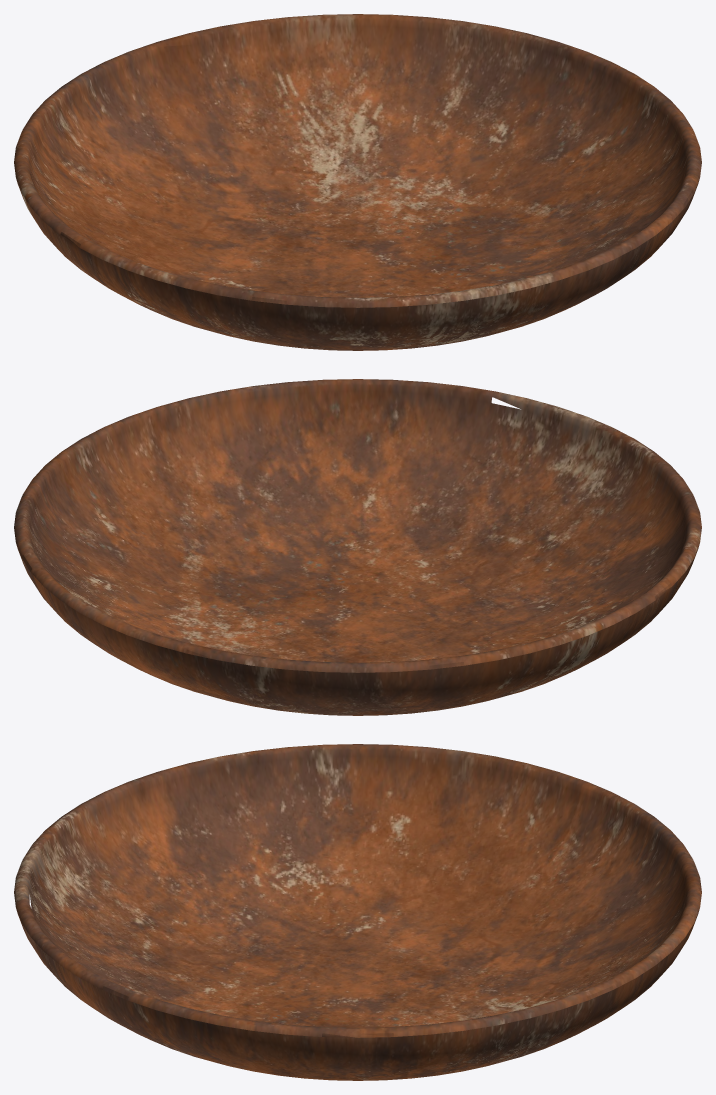
The model's file is bowl.gltf.
3 views of the same model, one above another, from view 1: azimuth 30°, elevation 25°; view 2: azimuth 150°, elevation 25°; view 3: azimuth 270°, elevation 25° (orthographic).
Parts seen in each view (by area): view 1: bowl; view 2: bowl; view 3: bowl.
Part boxes in pixels (left/top/right/bottom): bowl: left=14, top=14, right=701, bottom=350; bowl: left=14, top=379, right=701, bottom=715; bowl: left=14, top=744, right=701, bottom=1080.
Bounding box in the file's own units: 14.16 × 2.76 × 14.16.
1 material, 1 textured.
